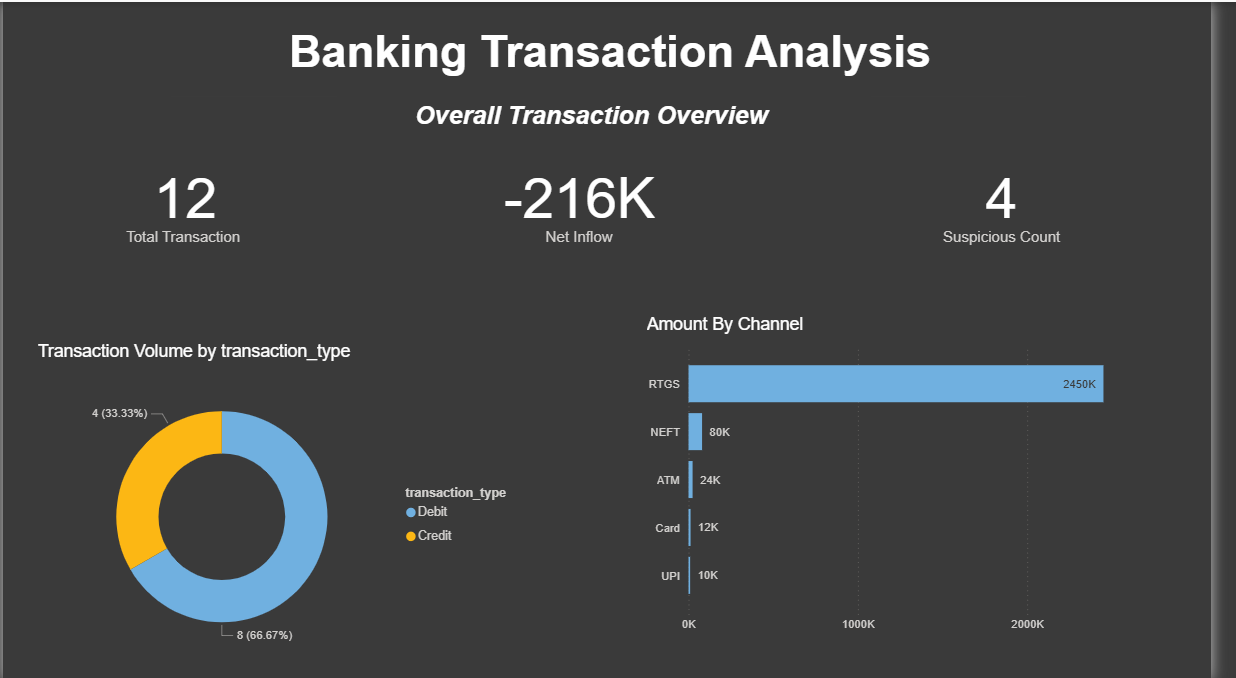

The dashboard page shown, as its layout file describes it:
{"tool":"powerbi","page":{"name":"Page 1","canvas":[1280,720],"ordinal":0},"visuals":[{"type":"card","fields":{"Values":["transactionss.Transaction Volume"]},"box":[32.4,136,322.2,149],"z":0},{"type":"card","fields":{"Values":["analysis.Net Flow"]},"box":[440.4,136,340,149],"z":2000},{"type":"card","fields":{"Values":["transactionss.Transaction Volume"]},"box":[921.3,136,275.3,149],"z":3000},{"type":"donutChart","fields":{"Category":["transactionss.transaction_type"],"Y":["transactionss.Transaction Volume"]},"box":[32.4,359.5,519.8,351.4],"z":4000},{"type":"textbox","box":[178.1,19.1,906.6,81.1],"z":7000},{"type":"clusteredBarChart","title":"Amount By Channel ","fields":{"Category":["transactionss.channel"],"Y":["transactionss.Product Revenue"]},"box":[677.6,330.8,551.9,345.2],"z":7001},{"type":"textbox","box":[354.7,100.2,566.3,65.2],"z":7002}]}

Visuals, with their boxes in screenshot pixels (x1, y1, x2, y2), scaled from the page's 1280x720 canvas onto the 1236x678 screenshot:
card - transactionss.Transaction Volume: {"x1": 31, "y1": 128, "x2": 342, "y2": 268}
card - analysis.Net Flow: {"x1": 425, "y1": 128, "x2": 754, "y2": 268}
card - transactionss.Transaction Volume: {"x1": 890, "y1": 128, "x2": 1155, "y2": 268}
donutChart - transactionss.transaction_type x transactionss.Transaction Volume: {"x1": 31, "y1": 339, "x2": 533, "y2": 669}
textbox: {"x1": 172, "y1": 18, "x2": 1047, "y2": 94}
"Amount By Channel " clusteredBarChart: {"x1": 654, "y1": 312, "x2": 1187, "y2": 637}
textbox: {"x1": 343, "y1": 94, "x2": 889, "y2": 156}
